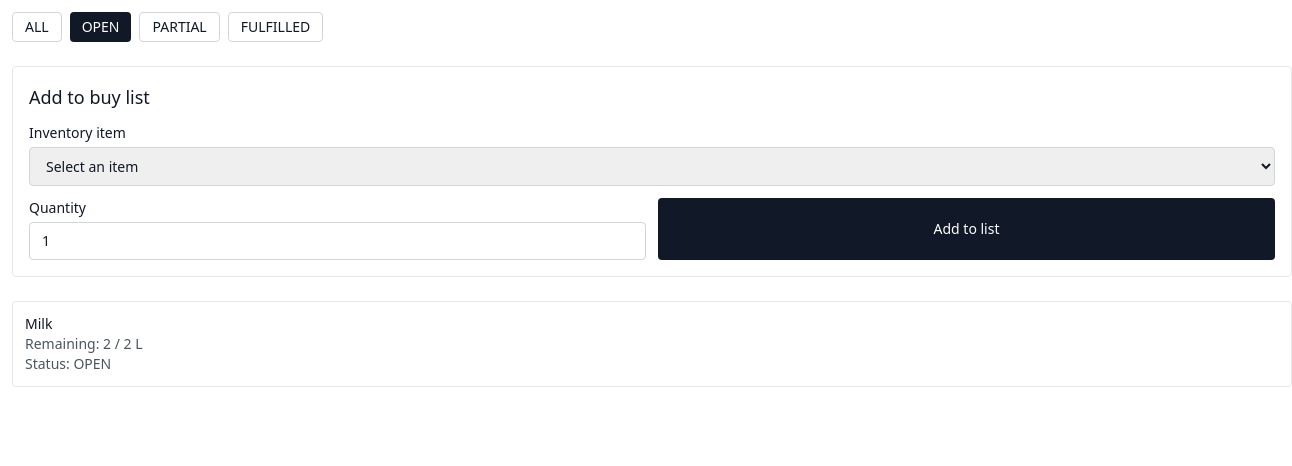
Test: To-buy dashboard › shows an error when manual add fails
Select "Milk" in the dropdown labelled "Inventory item" at (652,166), box [29,147,1275,186]
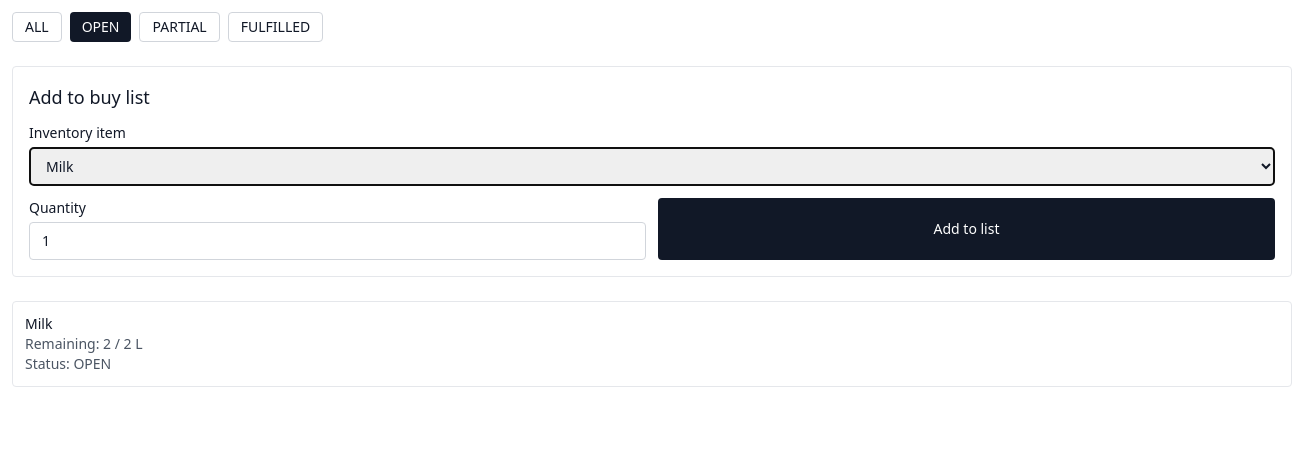
Click the button "Add to list" at (966,229), box [658,198,1275,260]
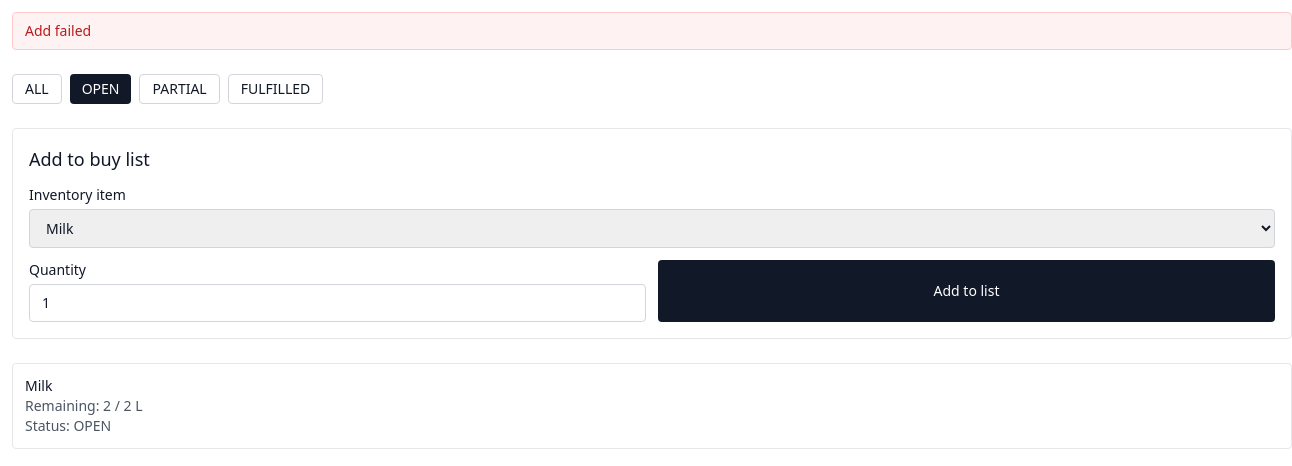
Expected: the message reads "Add failed", [25,21,91,40]
